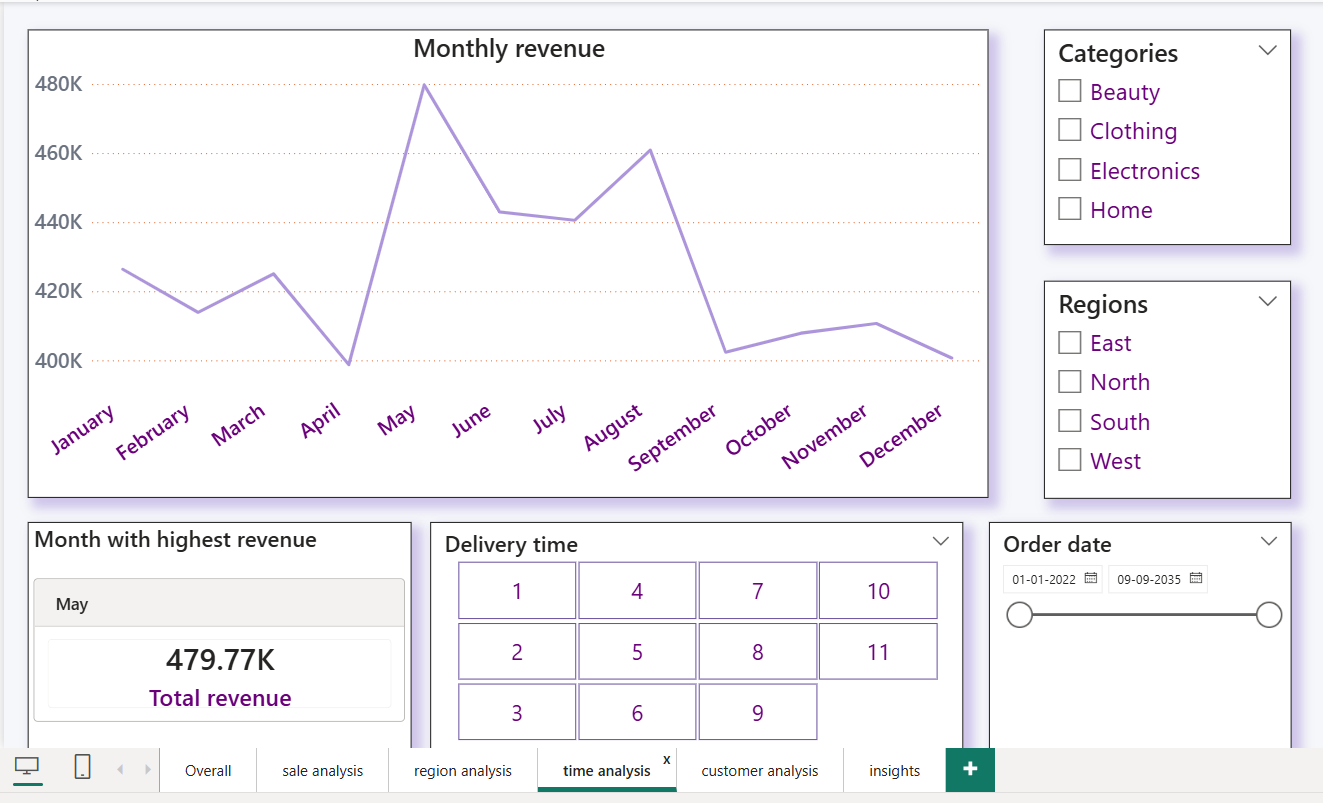

What the dashboard file says about the page in this screenshot:
{"tool":"powerbi","page":{"name":"time analysis","canvas":[1280,720],"ordinal":3},"visuals":[{"type":"lineChart","title":"Monthly revenue","fields":{"Category":["ecommerce.order_date.Variation.Date Hierarchy.Month"],"Y":["Sum(ecommerce.revenue)"]},"box":[23.1,26.7,927.3,452.1],"z":0},{"type":"slicer","fields":{"Values":["ecommerce.product_category"]},"box":[1003.8,26.7,238.5,208.2],"z":1000},{"type":"slicer","fields":{"Values":["ecommerce.region"]},"box":[1003.8,268.7,238.5,210],"z":2000},{"type":"cardVisual","title":"Month with highest revenue","fields":{"Rows":["ecommerce.order_date.Variation.Date Hierarchy.Month"],"Data":["Sum(ecommerce.revenue)"]},"box":[23.1,501.9,370.2,218.9],"z":3000},{"type":"slicer","fields":{"Values":["ecommerce.delivery_days"]},"box":[411.1,501.9,514.4,218.9],"z":4000},{"type":"slicer","fields":{"Values":["ecommerce.order_date"]},"box":[950.4,501.9,291.9,218.9],"z":5000}]}

Visuals, with their boxes in screenshot pixels (x1, y1, x2, y2):
"Monthly revenue" lineChart: [left=41, top=31, right=986, bottom=491]
slicer - ecommerce.product_category: [left=1040, top=31, right=1284, bottom=243]
slicer - ecommerce.region: [left=1040, top=277, right=1284, bottom=491]
"Month with highest revenue" cardVisual: [left=41, top=515, right=418, bottom=738]
slicer - ecommerce.delivery_days: [left=436, top=515, right=961, bottom=738]
slicer - ecommerce.order_date: [left=986, top=515, right=1284, bottom=738]
